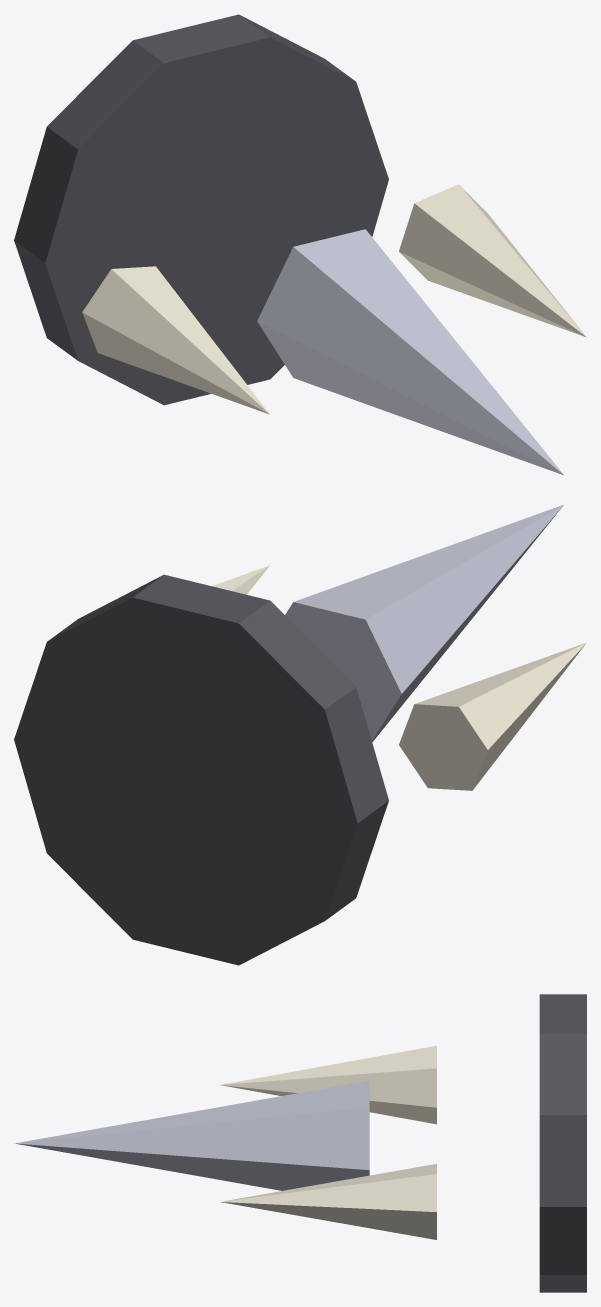
File: 04_low_poly_silhouette_overlay_4.glb
3 renders of one model, top to bottom at view 1: azimuth 30°, elevation 25°; view 2: azimuth 150°, elevation 25°; view 3: azimuth 270°, elevation 25°, orthographic. The views are drawn at different scales.
Parts seen in each view (by area): view 1: socket_base, silhouette_spike_main, silhouette_spike_l, silhouette_spike_r; view 2: socket_base, silhouette_spike_main, silhouette_spike_l, silhouette_spike_r; view 3: silhouette_spike_main, socket_base, silhouette_spike_r, silhouette_spike_l.
Part boxes in pixels (x1=…): socket_base: x1=14, y1=14, x2=388, y2=405; silhouette_spike_main: x1=257, y1=229, x2=563, y2=475; silhouette_spike_l: x1=82, y1=266, x2=269, y2=414; silhouette_spike_r: x1=399, y1=184, x2=586, y2=337; socket_base: x1=14, y1=574, x2=388, y2=965; silhouette_spike_main: x1=285, y1=504, x2=563, y2=741; silhouette_spike_l: x1=399, y1=642, x2=586, y2=790; silhouette_spike_r: x1=212, y1=565, x2=269, y2=594; silhouette_spike_main: x1=14, y1=1080, x2=369, y2=1190; socket_base: x1=539, y1=994, x2=586, y2=1292; silhouette_spike_r: x1=220, y1=1164, x2=436, y2=1239; silhouette_spike_l: x1=220, y1=1045, x2=436, y2=1124.
Size of the model in its own units: 0.897 by 0.7228 by 1.45.
